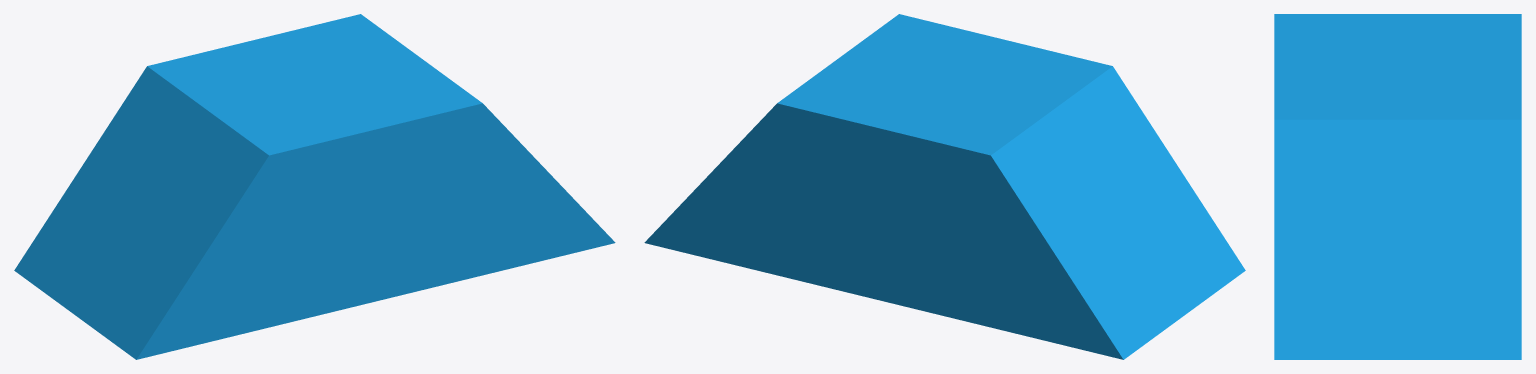
The model's file is trapezoidal.glb.
3 views of the same model, side by side, from view 1: azimuth 30°, elevation 25°; view 2: azimuth 150°, elevation 25°; view 3: azimuth 270°, elevation 25° (orthographic).
Visible parts, largest first — view 1: Material-material; view 2: Material-material; view 3: Material-material.
Part boxes in pixels (<box>): Material-material: <box>14,14,615,359</box>; Material-material: <box>644,14,1245,359</box>; Material-material: <box>1274,14,1521,359</box>.
Bounding box in the file's own units: 3.61 × 1.24 × 1.59.
